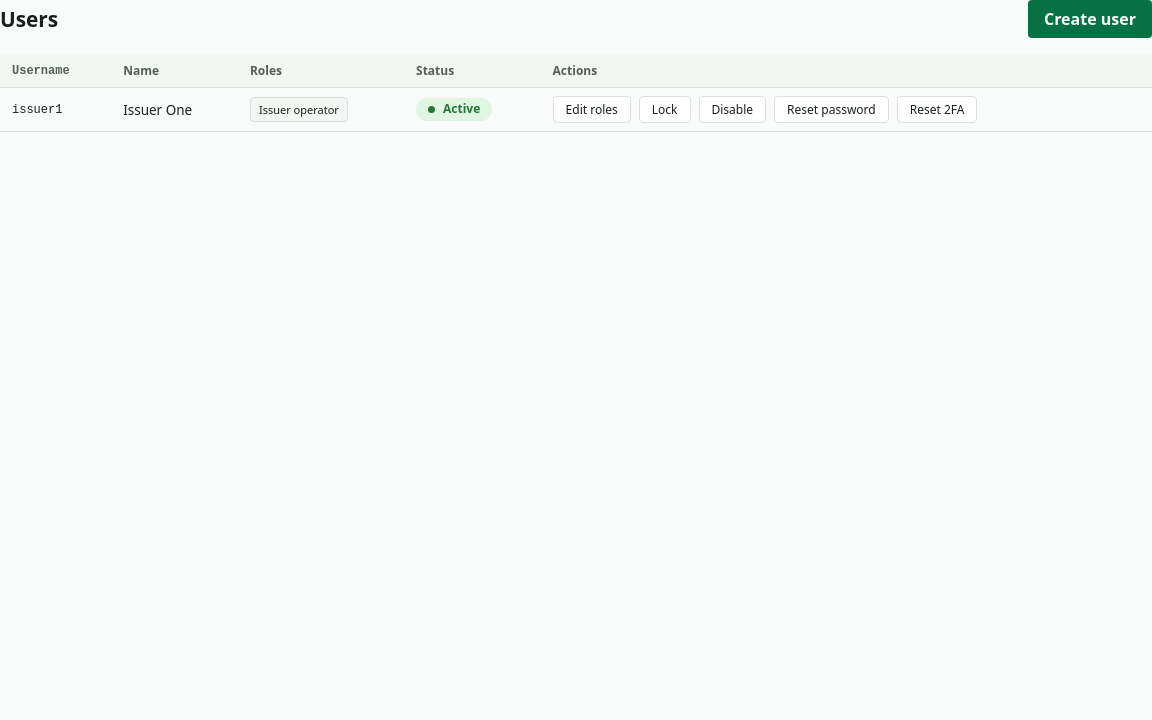
it: UsersPage last-active-admin guard › shows a dedicated inline explanation for KH-USR-0423 instead of the generic banner
This screenshot has width=1152, height=720.
Click the button "Disable" at (732, 110), box [698,96,766,123]
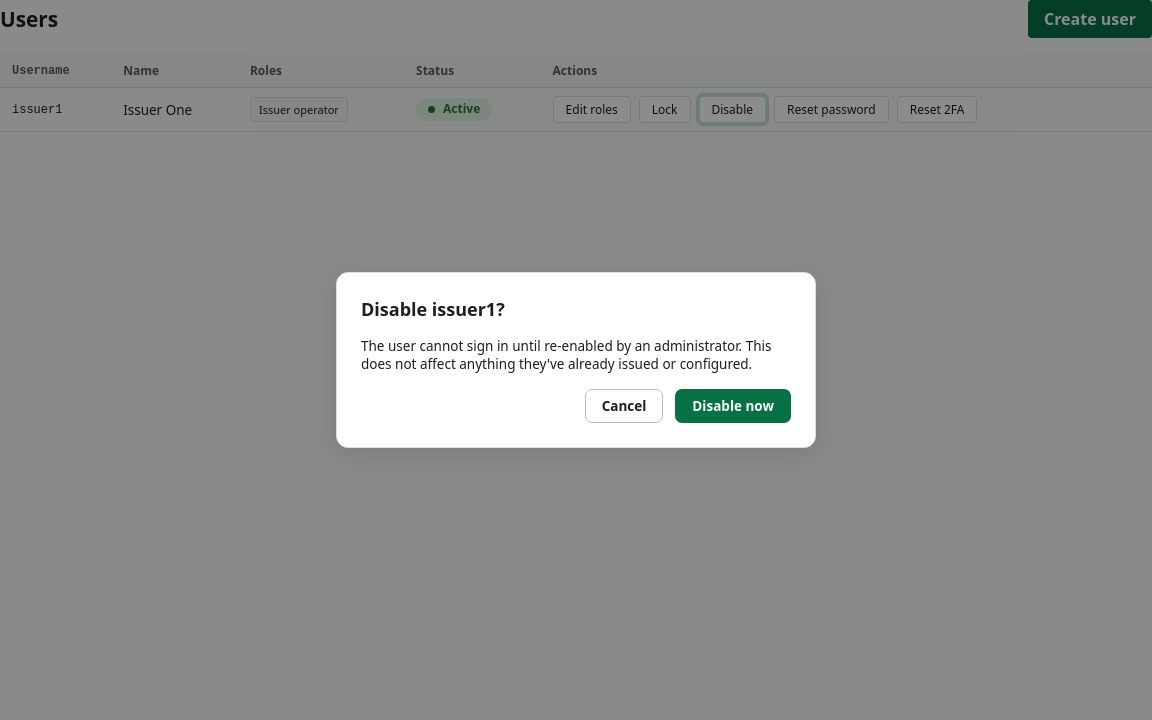
Click the button "Disable now" at (733, 406), box [675,389,791,423]
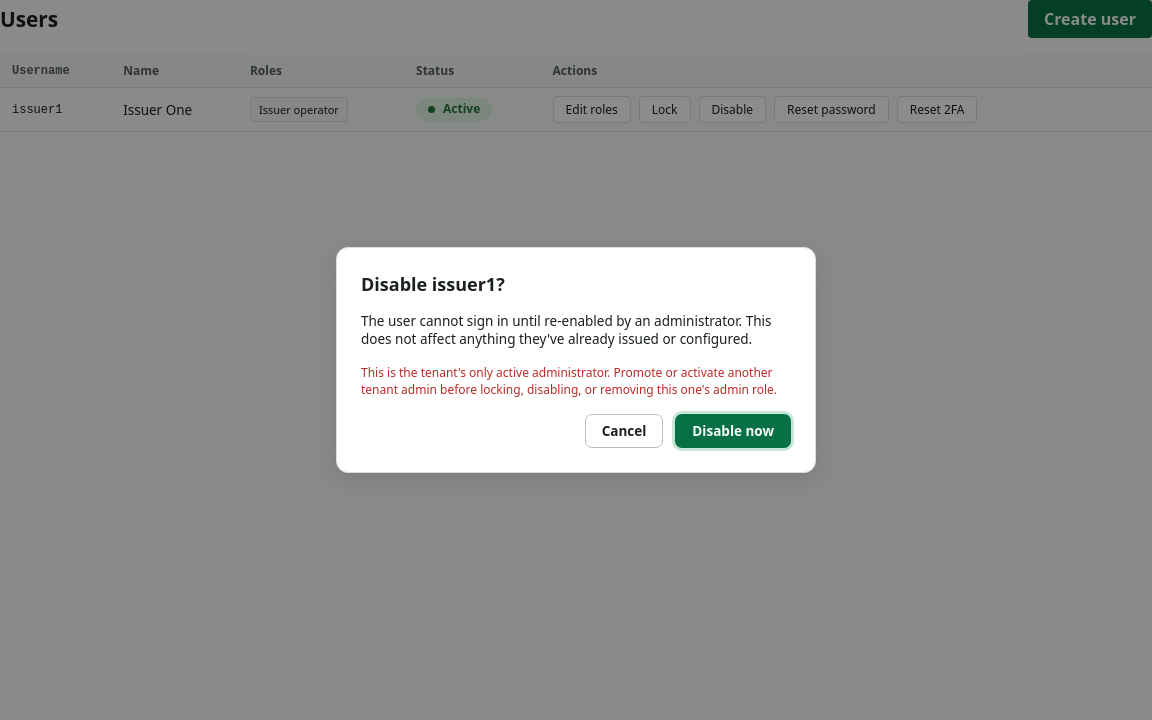
Expected: the text "This is the tenant's only active administrator. Promote or activate another tenant admin before locking, disabling, or r" is shown, [361,364,777,398]
